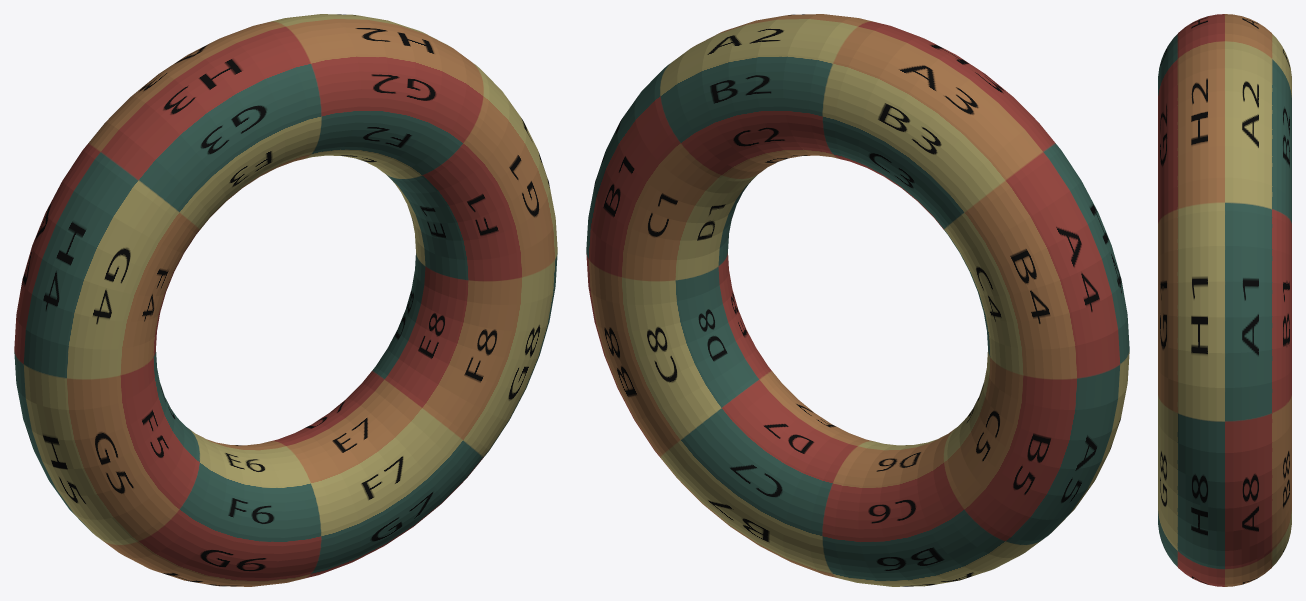
File: texture_torus_R21_r20.glb
The picture shows the model from 3 angles, left to right: view 1: azimuth 30°, elevation 25°; view 2: azimuth 150°, elevation 25°; view 3: azimuth 270°, elevation 25°; orthographic projection. The views are drawn at different scales.
Parts seen in each view (by area): view 1: world; view 2: world; view 3: world.
Boxes of the visible parts, box(x1,y1,x2,y2) form: world: box(14, 14, 557, 586); world: box(586, 14, 1129, 586); world: box(1158, 14, 1291, 586).
Size of the model in its own units: 31.33 by 31.27 by 7.32.
1 material, 1 textured.
